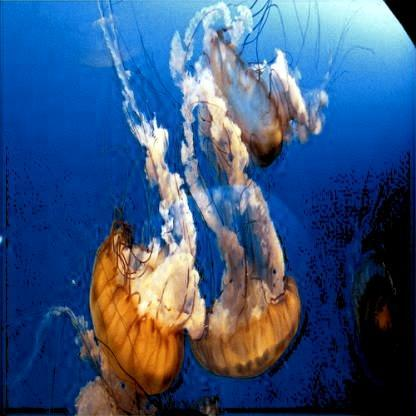Dressed: (175, 8, 302, 376), (96, 98, 205, 397), (204, 13, 330, 165), (350, 254, 402, 383), (74, 375, 157, 415)
